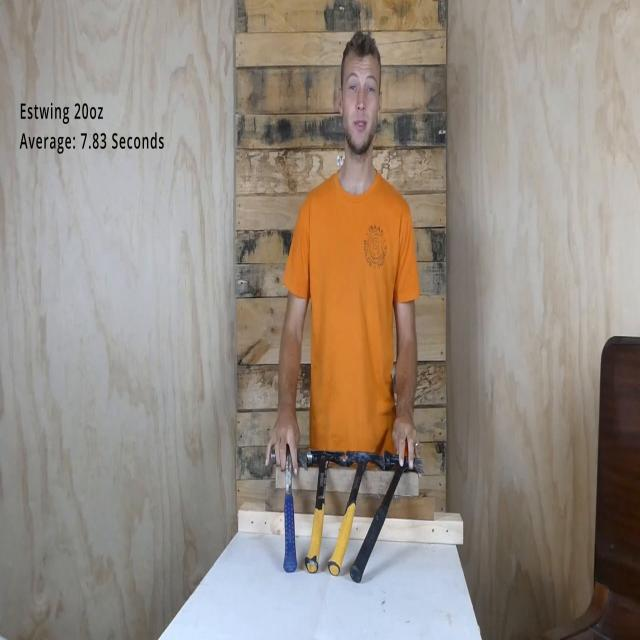hammer: (352, 451, 425, 587), (320, 438, 384, 586), (265, 436, 310, 574), (303, 438, 347, 574)
